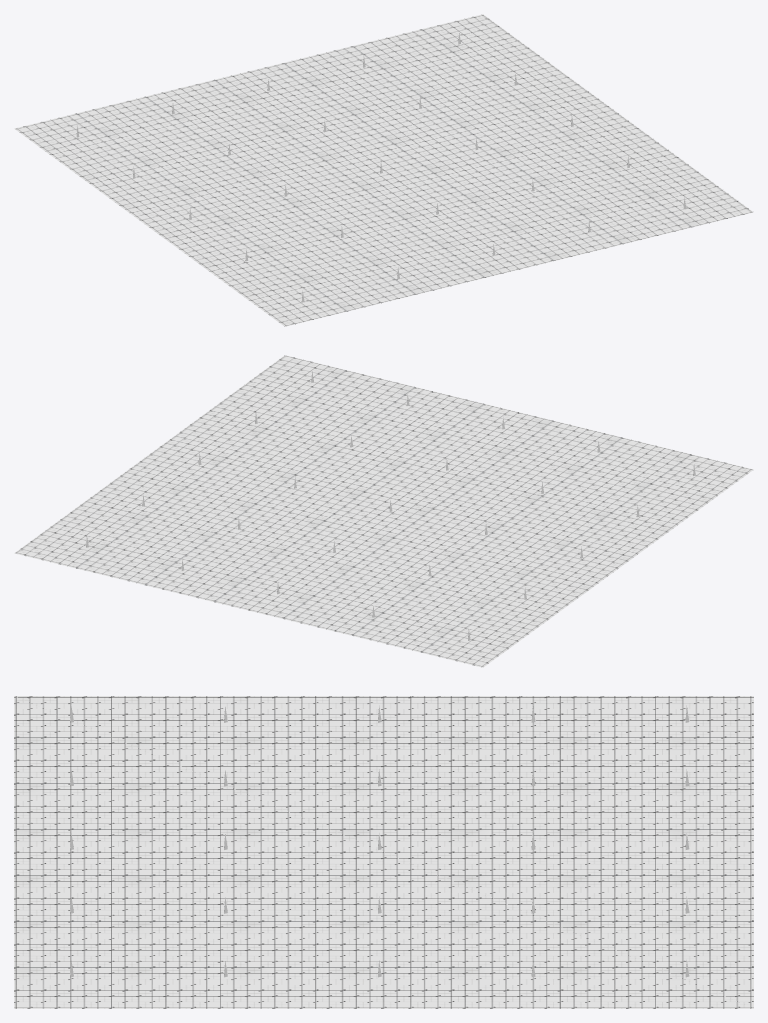
File: sunshadowTest.glb
3 views of the same model, one above another, from view 1: azimuth 30°, elevation 25°; view 2: azimuth 150°, elevation 25°; view 3: azimuth 270°, elevation 25° (orthographic). The views are drawn at different scales.
Visible parts, largest first — view 1: Plane, Cone; view 2: Plane, Cone; view 3: Plane, Cone.
Boxes of the visible parts, box(x1,y1,x2,y2) form: Plane: box(14, 14, 753, 326); Cone: box(76, 33, 686, 302); Plane: box(14, 355, 753, 667); Cone: box(86, 371, 695, 640); Plane: box(14, 696, 753, 1008); Cone: box(70, 705, 689, 977).
Bounding box in the file's own units: 200 × 5 × 200.
2 materials, 1 textured.
